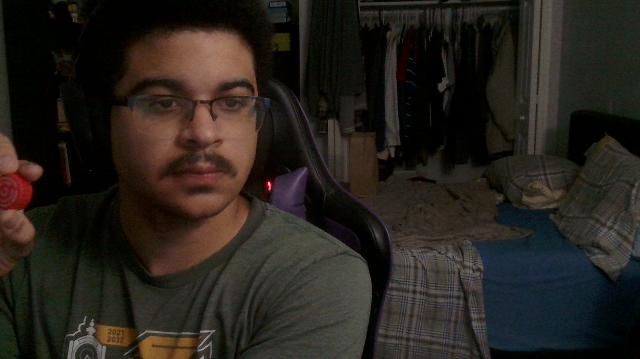cap: (1, 174, 32, 210)
